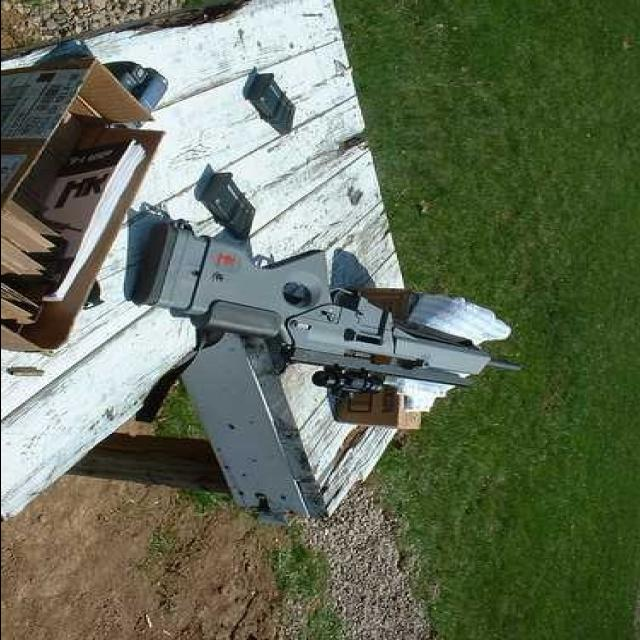heavyweapon: (153, 198, 533, 406)
